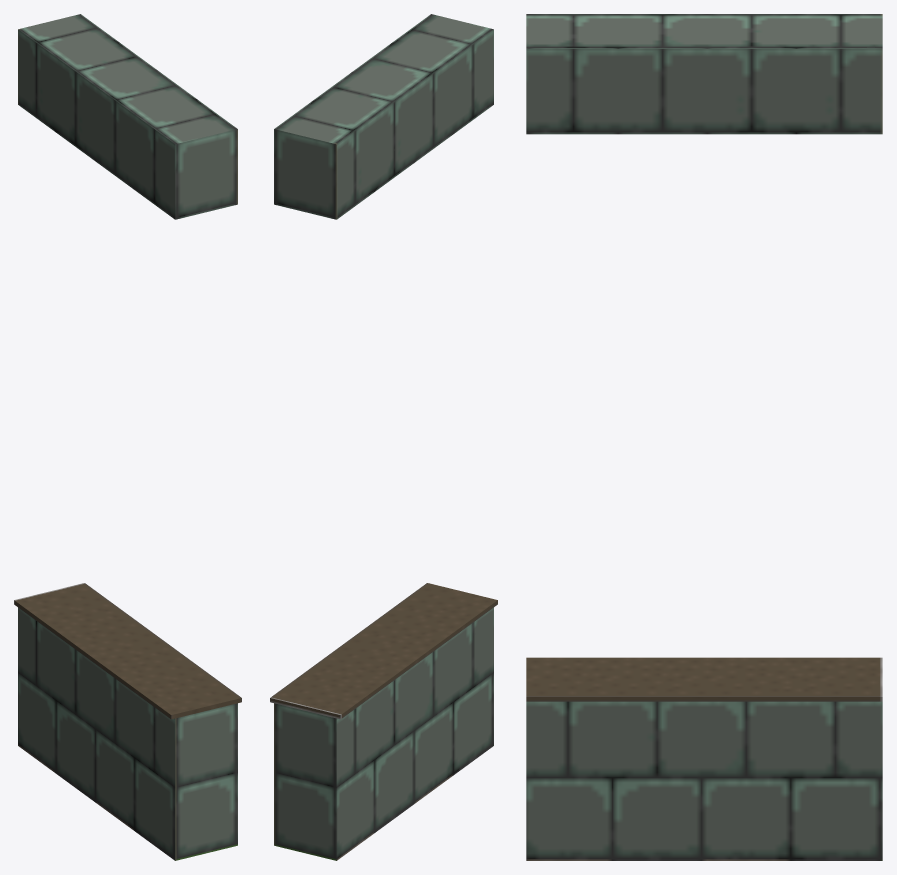
File: obj_wallOpen_1x2m_v2.fbx
3 views of the same model, side by side, from view 1: azimuth 30°, elevation 25°; view 2: azimuth 150°, elevation 25°; view 3: azimuth 270°, elevation 25° (orthographic). The views are drawn at different scales.
Visible parts, largest first — view 1: obj_wallOpen_1x2m_v2; view 2: obj_wallOpen_1x2m_v2; view 3: obj_wallOpen_1x2m_v2.
Boxes of the visible parts, x1=… form: obj_wallOpen_1x2m_v2: x1=14, y1=14, x2=241, y2=860; obj_wallOpen_1x2m_v2: x1=270, y1=14, x2=497, y2=860; obj_wallOpen_1x2m_v2: x1=526, y1=14, x2=882, y2=860.
Size of the model in its own units: 25.98 by 252 by 100.
